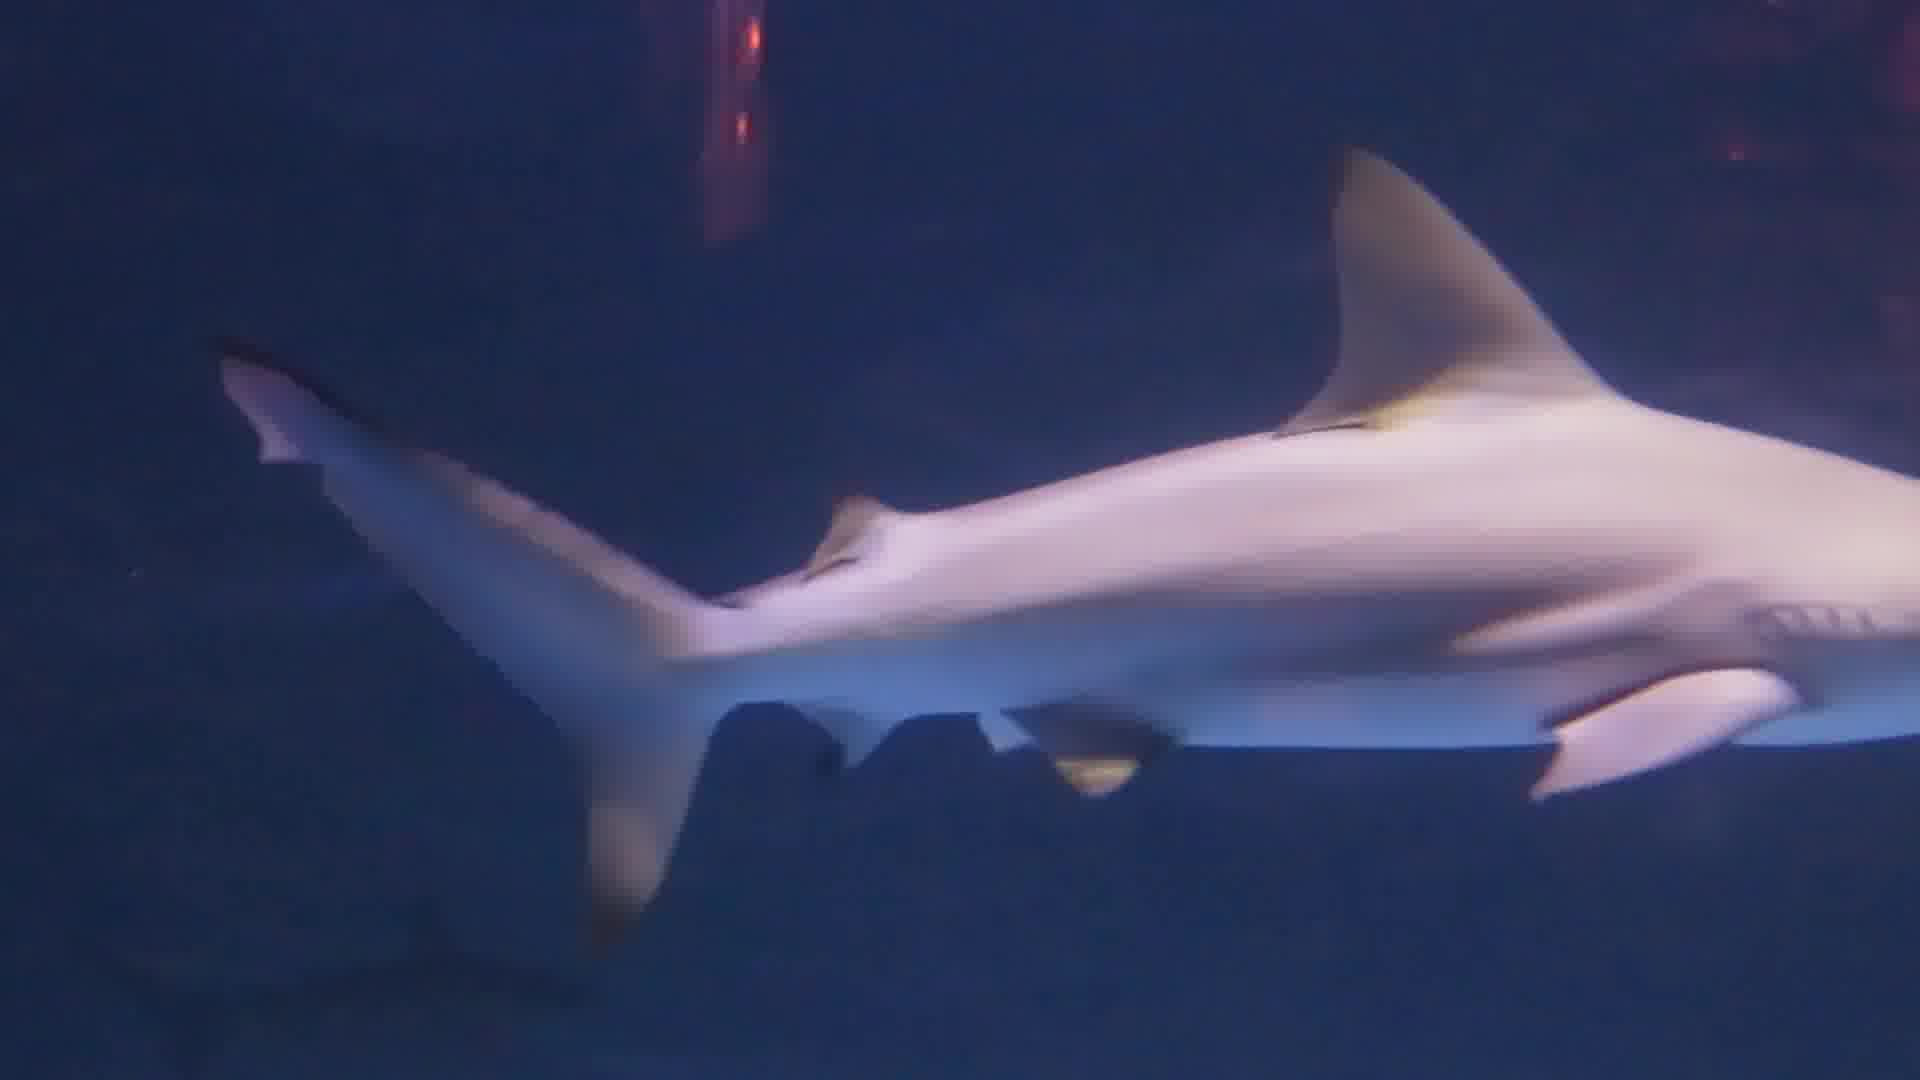Carcharhinus leucas: (193, 129, 1920, 942)
